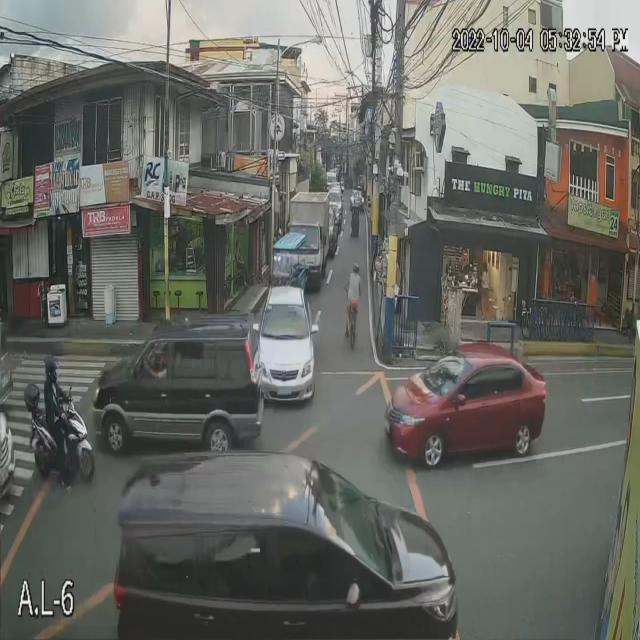full: (44, 358, 58, 380)
